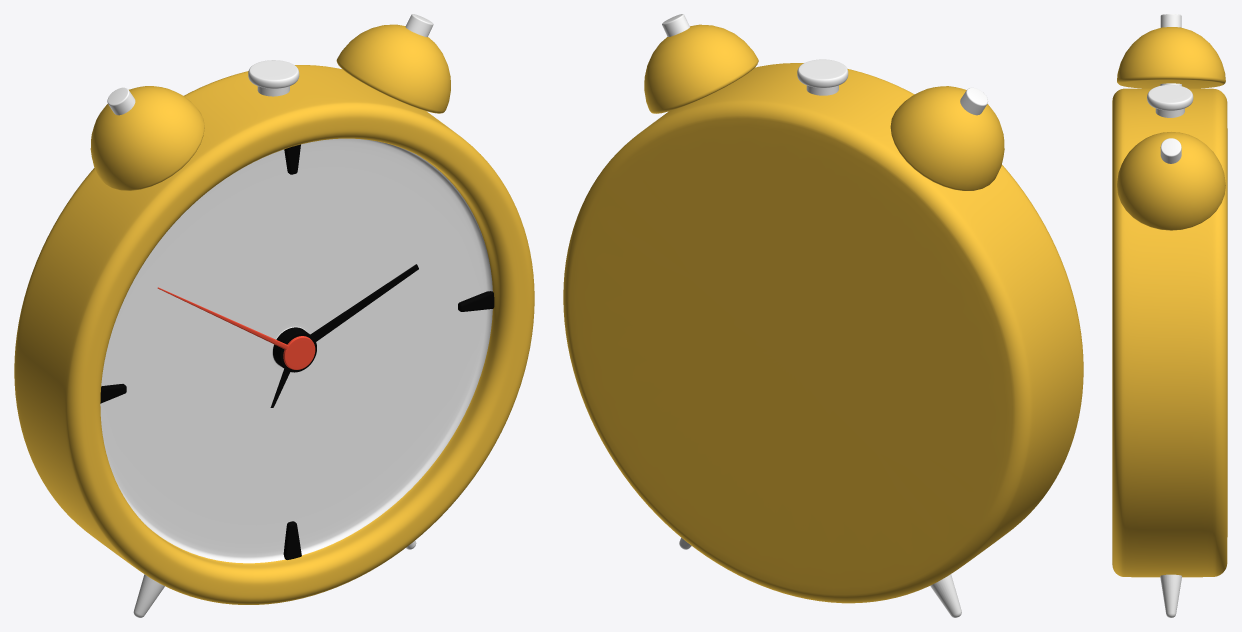
The model's file is clock.glb.
The picture shows the model from 3 angles, left to right: view 1: azimuth 30°, elevation 25°; view 2: azimuth 150°, elevation 25°; view 3: azimuth 270°, elevation 25°; orthographic projection. The views are drawn at different scales.
Visible parts, largest first — view 1: Cylinder.014; view 2: Cylinder.014; view 3: Cylinder.014.
Boxes of the visible parts, x1,y1,x2,y2 form: Cylinder.014: [14, 14, 534, 617]; Cylinder.014: [563, 14, 1083, 617]; Cylinder.014: [1112, 14, 1227, 617].
Size of the model in its own units: 1.99 by 2.17 by 0.4688.
